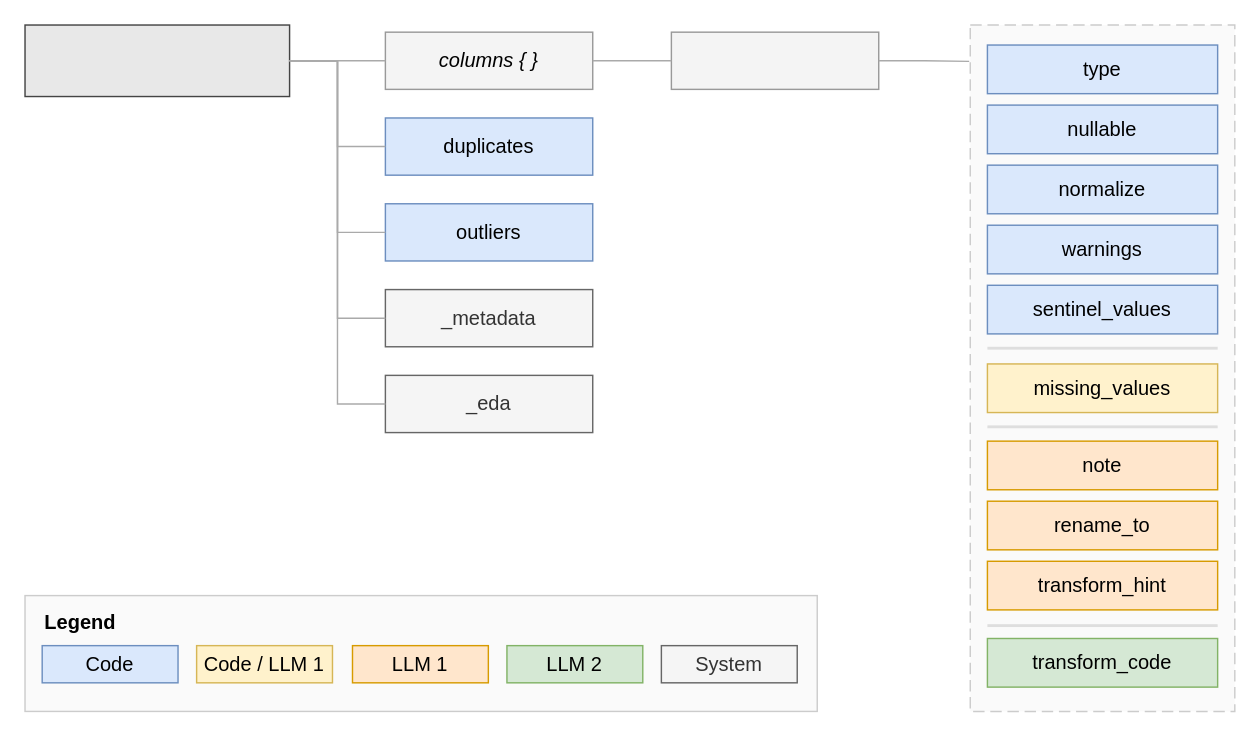
The diagram is 1260 pixels wide and 736 high, and some of its shapes have lost their labels. Here are the shapes that lost their labels. From the top down, the box of each, then its label:
(24, 24, 290, 97): recommendations JSON
(670, 31, 879, 89): { col_name }
